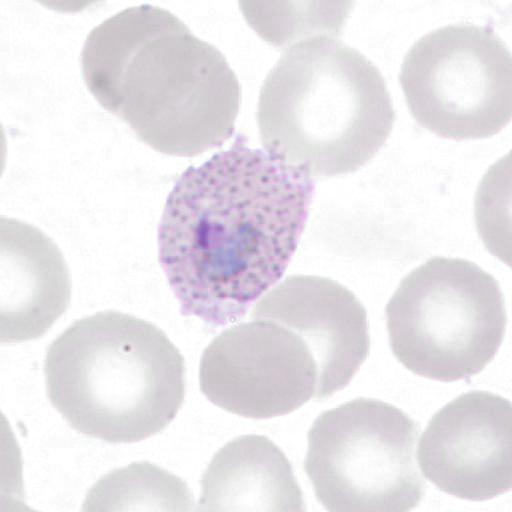Infected: (195, 184, 352, 374)
Uninfected: (118, 334, 255, 474), (325, 68, 470, 199), (6, 131, 128, 254), (271, 355, 395, 475), (143, 120, 263, 240), (88, 0, 210, 113), (311, 393, 431, 507), (0, 372, 115, 484), (195, 92, 313, 189), (0, 10, 98, 120)
